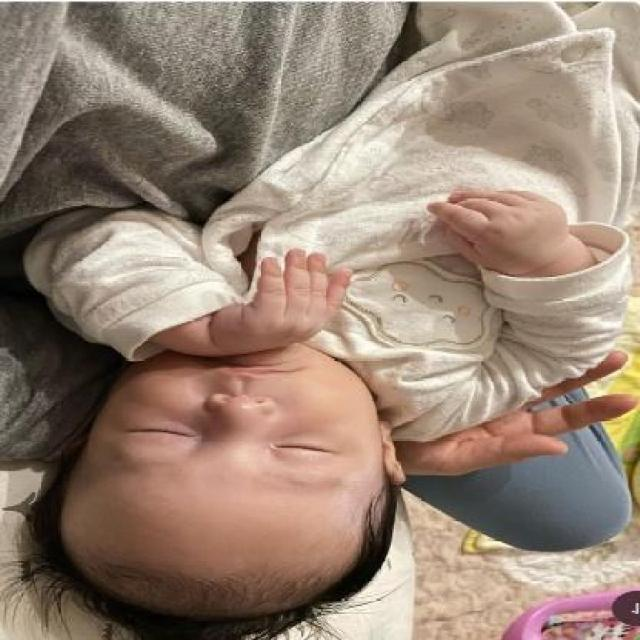baby: (19, 0, 640, 637)
